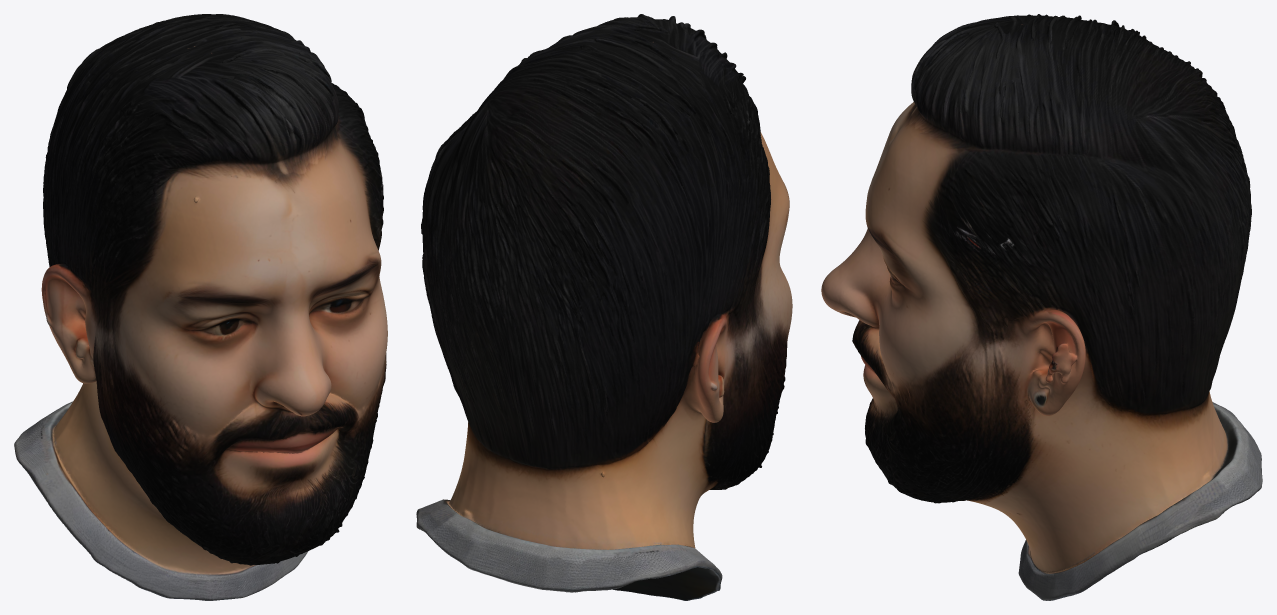
3 views of the same model, side by side, from view 1: azimuth 30°, elevation 25°; view 2: azimuth 150°, elevation 25°; view 3: azimuth 270°, elevation 25° (orthographic). The views are drawn at different scales.
Parts seen in each view (by area): view 1: tripo_node_03da6846-b379-4f0b-9516-6b9290ec19c8; view 2: tripo_node_03da6846-b379-4f0b-9516-6b9290ec19c8; view 3: tripo_node_03da6846-b379-4f0b-9516-6b9290ec19c8.
Part boxes in pixels (x1,y1,x2,y2): tripo_node_03da6846-b379-4f0b-9516-6b9290ec19c8: (14,14,387,600); tripo_node_03da6846-b379-4f0b-9516-6b9290ec19c8: (416,14,792,600); tripo_node_03da6846-b379-4f0b-9516-6b9290ec19c8: (821,14,1262,600).
Bounding box in the file's own units: 0.5587 × 1 × 0.737.
Materials: 1 (1 with a texture image).
